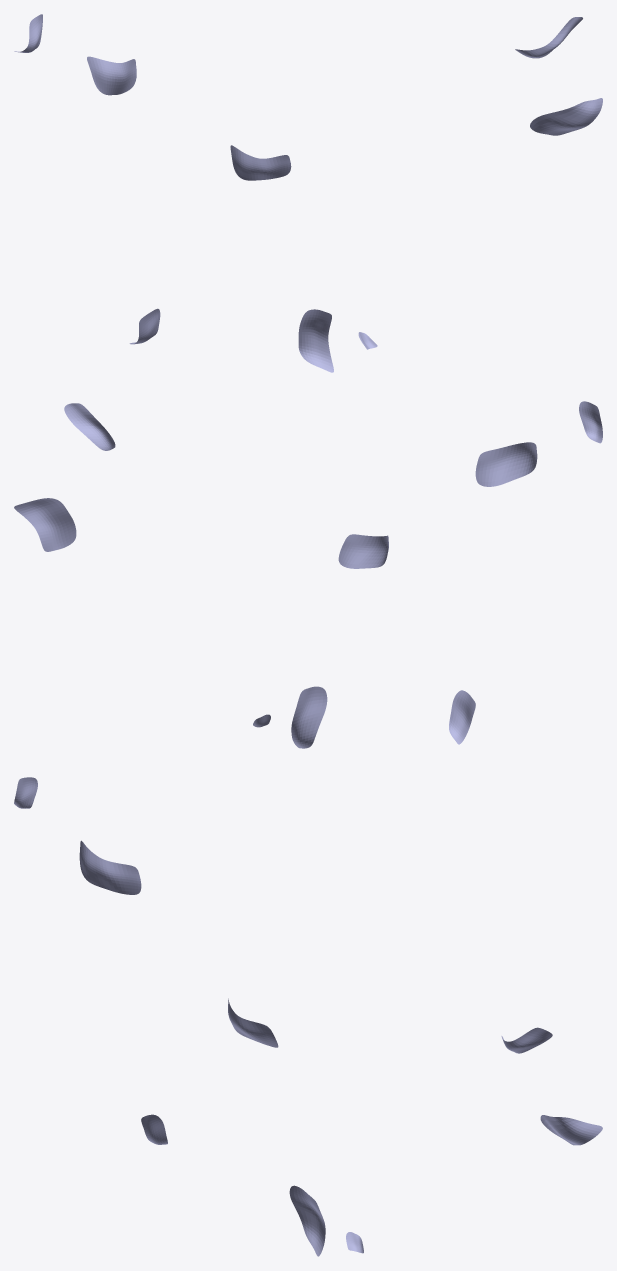
3 views of the same model, one above another, from view 1: azimuth 30°, elevation 25°; view 2: azimuth 150°, elevation 25°; view 3: azimuth 330°, elevation 25° (orthographic). The views are drawn at different scales.
Visible parts, largest first — view 1: Plane.007, Plane.004, Plane.002, Plane.001, Plane.003, Plane.006; view 2: Plane.002, Plane.004, Plane.007, Plane.001, Plane.003, Plane.006, Plane.005; view 3: Plane.002, Plane.007, Plane.004, Plane.001, Plane.003.
Boxes of the visible parts, x1,y1,x2,y2 form: Plane.007: (298,309,333,372); Plane.004: (530,98,602,135); Plane.002: (87,56,136,95); Plane.001: (230,145,291,180); Plane.003: (515,17,582,58); Plane.006: (129,308,160,344); Plane.002: (475,442,537,486); Plane.004: (14,498,76,551); Plane.007: (291,686,327,748); Plane.001: (338,534,388,568); Plane.003: (64,403,115,450); Plane.006: (449,690,475,744); Plane.005: (579,401,602,443); Plane.002: (79,840,141,894); Plane.007: (289,1185,325,1256); Plane.004: (540,1115,602,1145); Plane.001: (228,998,278,1047); Plane.003: (501,1027,552,1053).
Bounding box in the file's own units: 3.5 × 2.4 × 0.2982.
